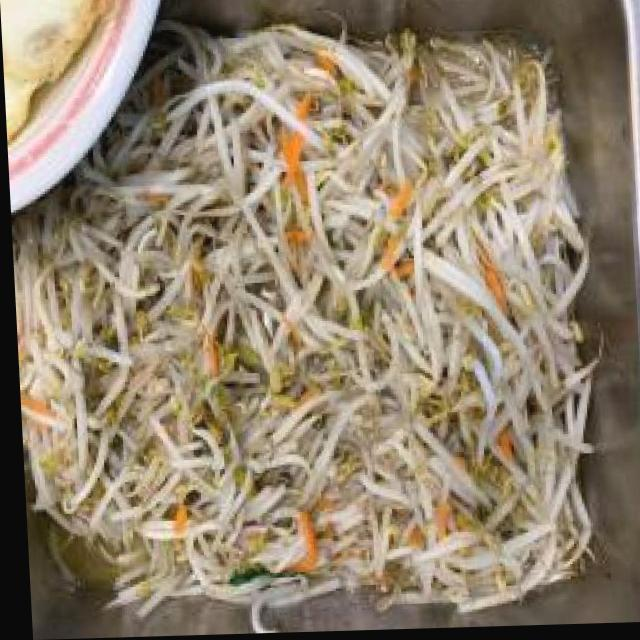mung_bean_sprouts: (36, 55, 583, 610)
